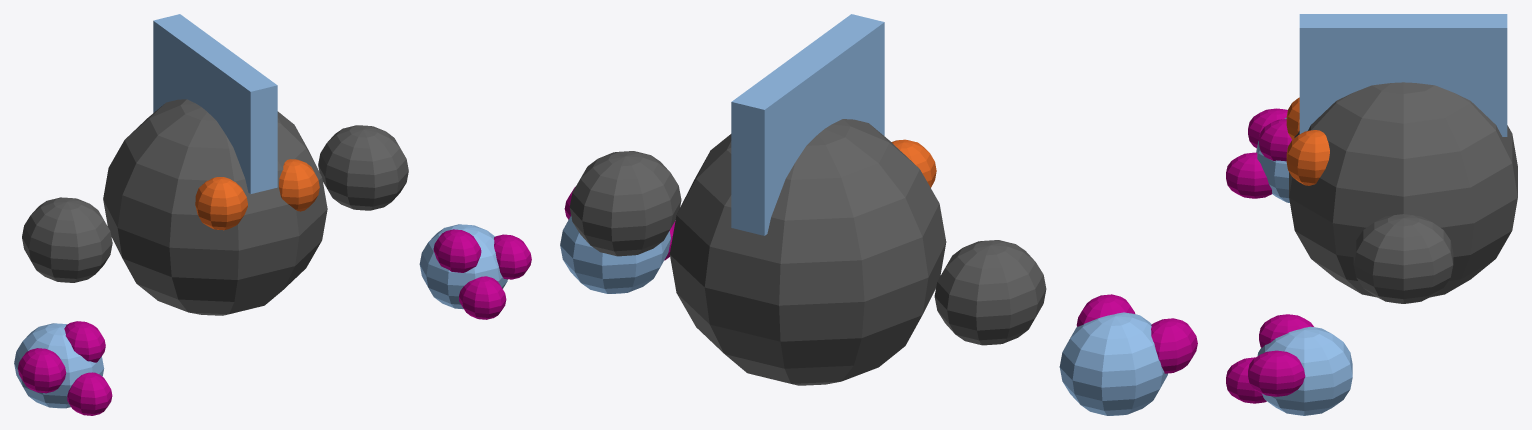
The model's file is Enemy.fbx.
3 renders of one model, left to right at view 1: azimuth 30°, elevation 25°; view 2: azimuth 150°, elevation 25°; view 3: azimuth 270°, elevation 25°, orthographic. The views are drawn at different scales.
Parts seen in each view (by area): view 1: pSphere9; view 2: pSphere9; view 3: pSphere9.
Part boxes in pixels (bbox=[...]): pSphere9: bbox=[14, 14, 531, 415]; pSphere9: bbox=[560, 14, 1197, 415]; pSphere9: bbox=[1226, 14, 1517, 415].
Size of the model in its own units: 5.16 by 2.62 by 2.43.
